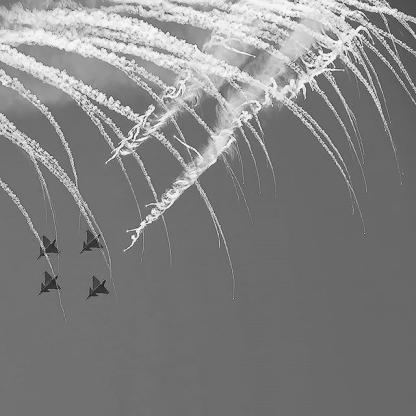JAS39: (78, 229, 106, 257), (85, 275, 111, 302), (37, 235, 63, 262), (38, 271, 64, 297)
